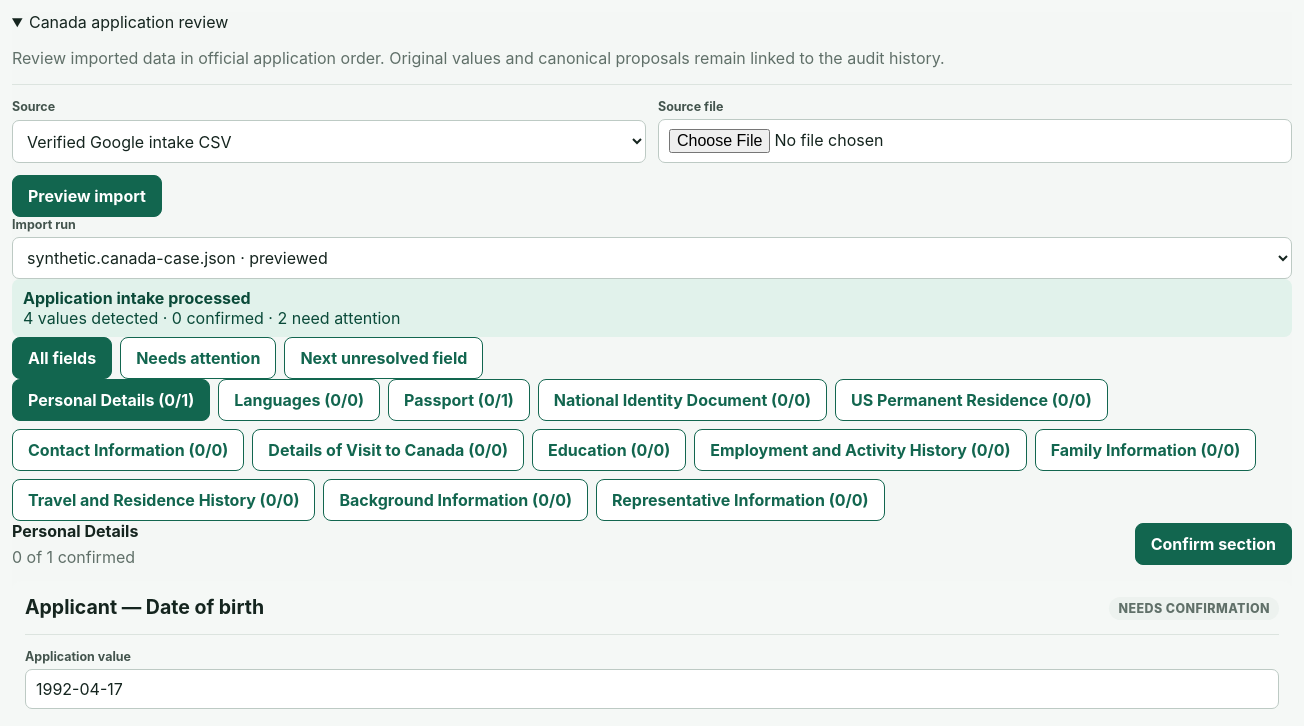
Test: keeps section navigation and attention filtering in the unified form
Expected: the text "Applicant — Date of birth" is shown, x1=25 y1=595 x2=264 y2=619
What coordinates should you click on to do the following:
click the button "Needs attention"
I would click on:
 (198, 358)
Its box is x1=120 y1=337 x2=276 y2=379.
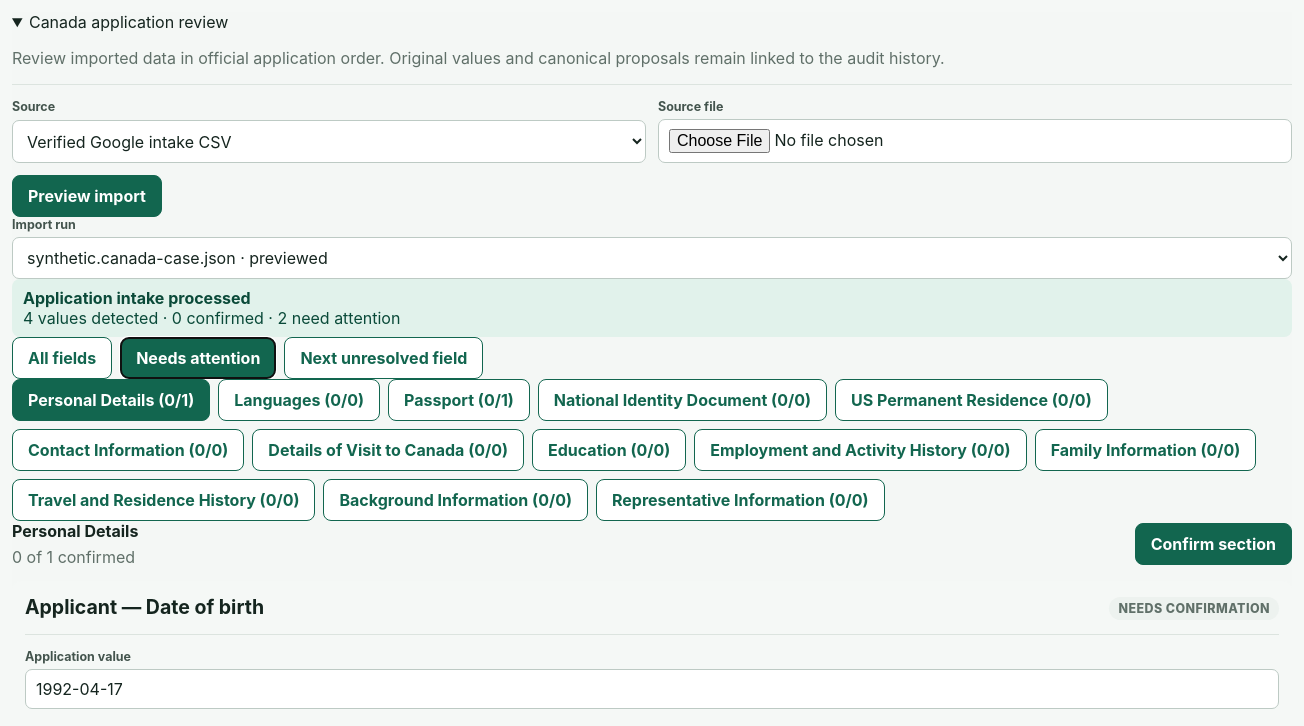
Expected: the text "Applicant — Date of birth" is shown, x1=25 y1=595 x2=264 y2=619
What coordinates should you click on to do the following:
click the button "Passport (0/1)"
I would click on:
 (459, 400)
Its box is x1=388 y1=379 x2=530 y2=421.
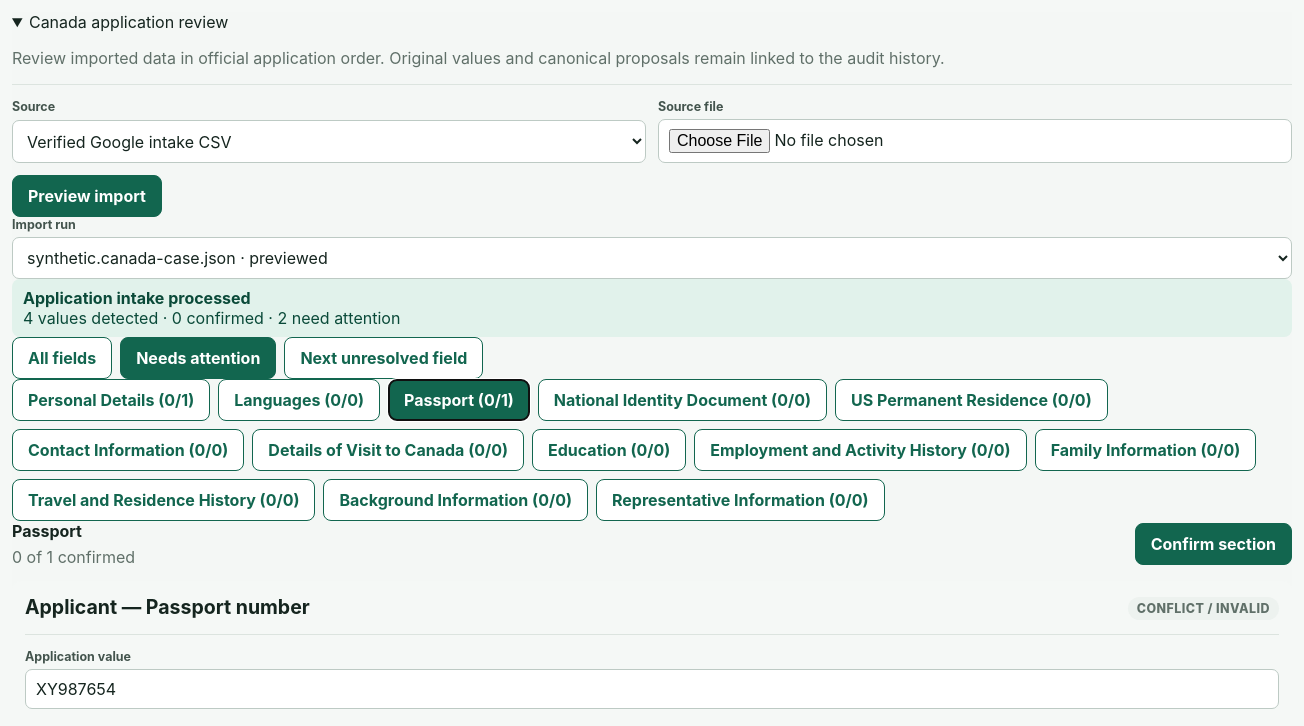
Expected: the text "Applicant — Passport number" is shown, x1=25 y1=595 x2=310 y2=619
